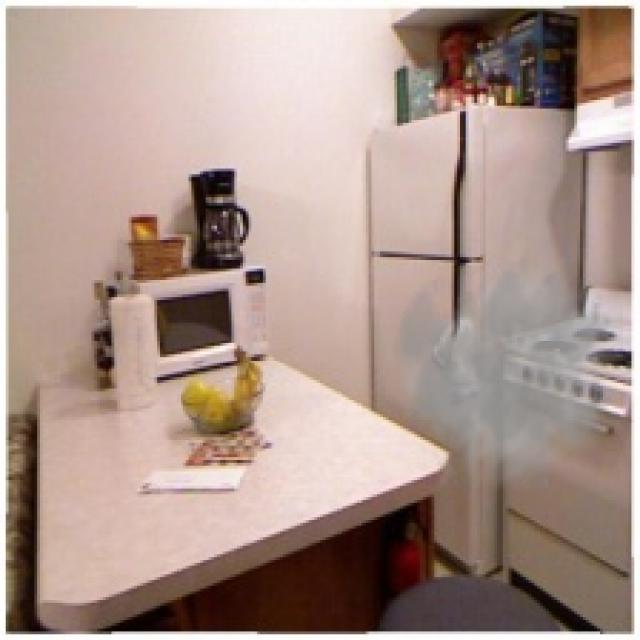smoke: (377, 254, 623, 500)
